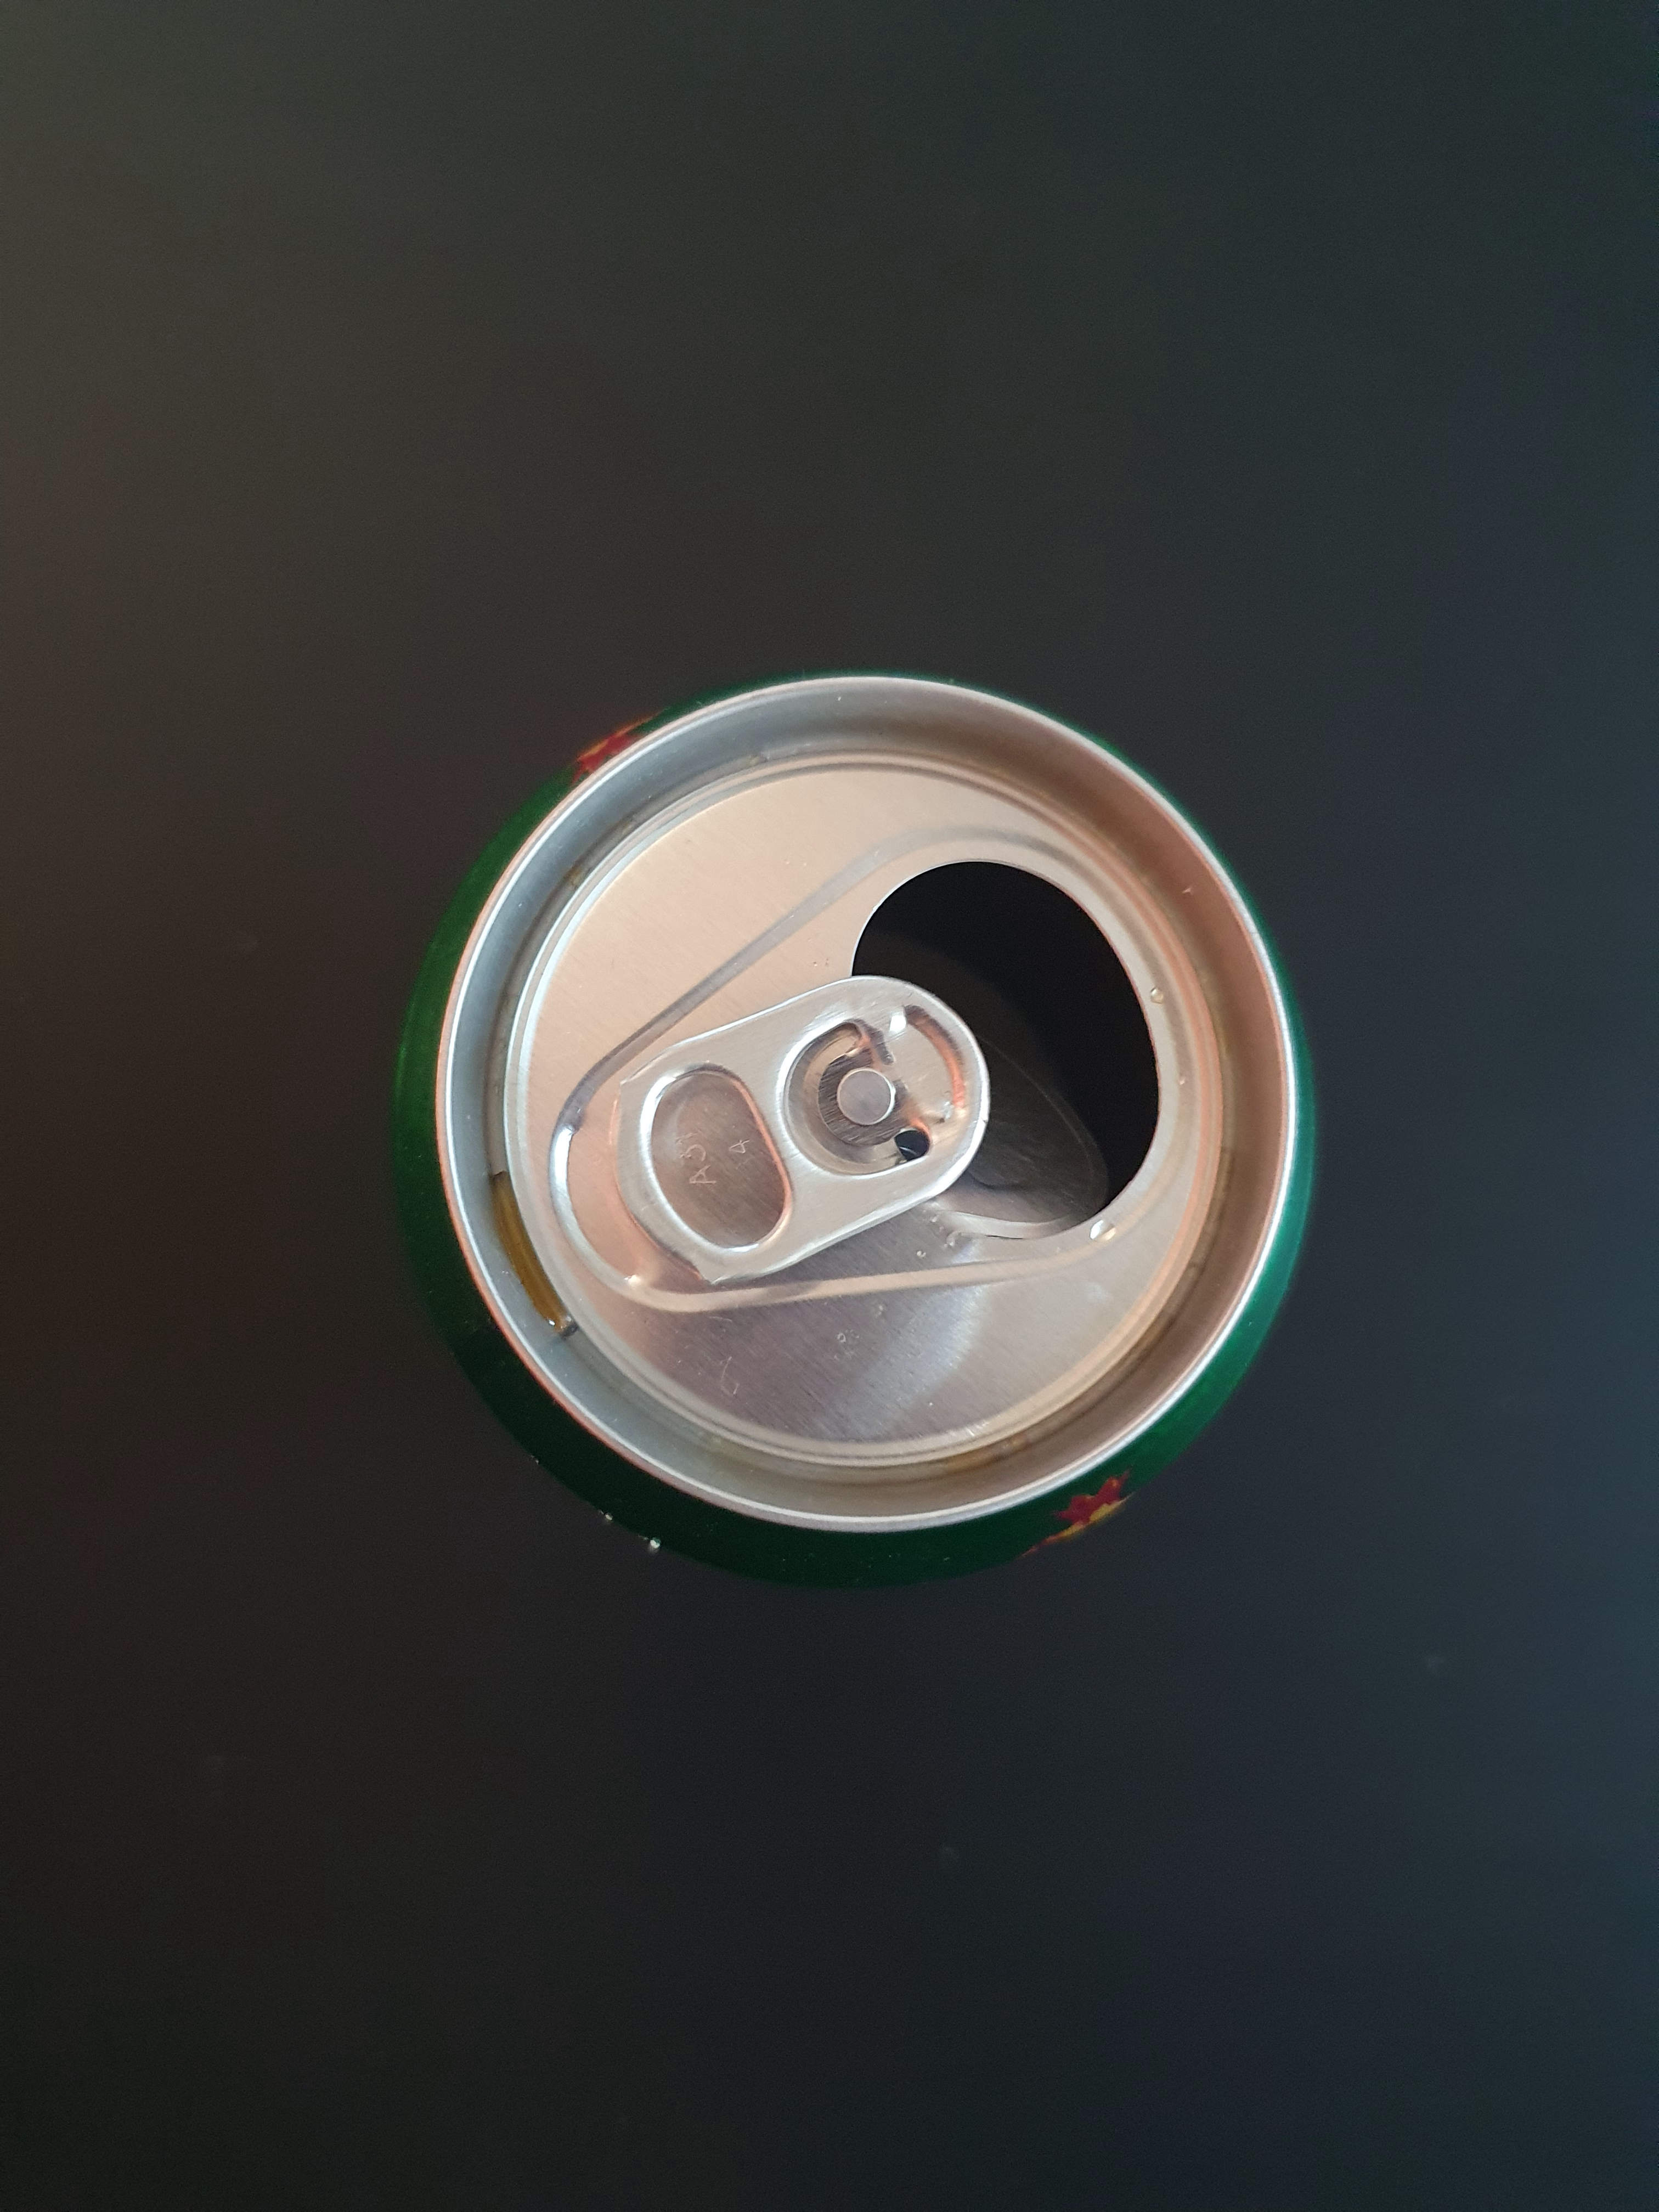metal: (340, 590, 1401, 1649)
